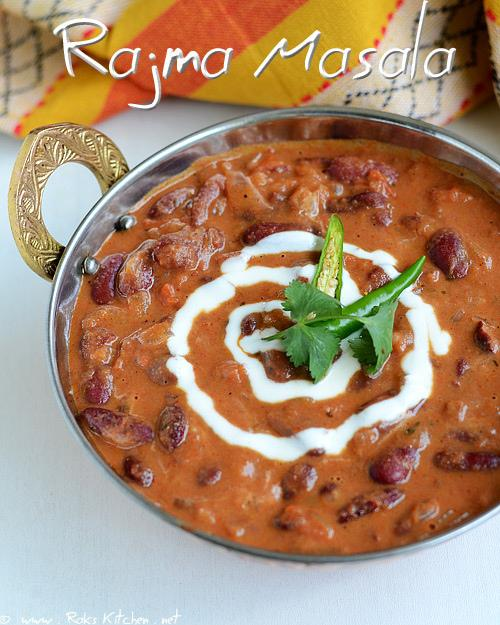rajma: (102, 177, 492, 552)
